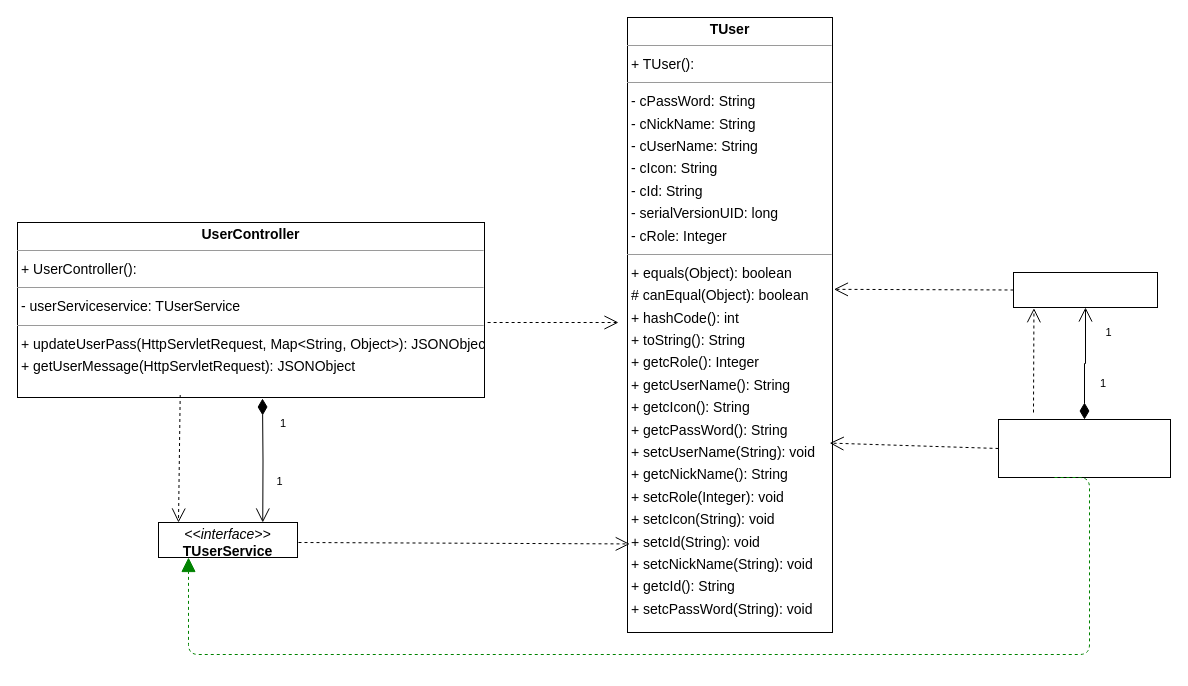
Some shapes in this 1188 by 686 pixel diagram are drawn without their labels. The centre of each missing label's shape, as x and y in pixels:
"<<interface>> TUserMapper" goes at (x=1085, y=290).
"TUserServiceImpl + TUserServiceImpl():" goes at (x=1084, y=448).
